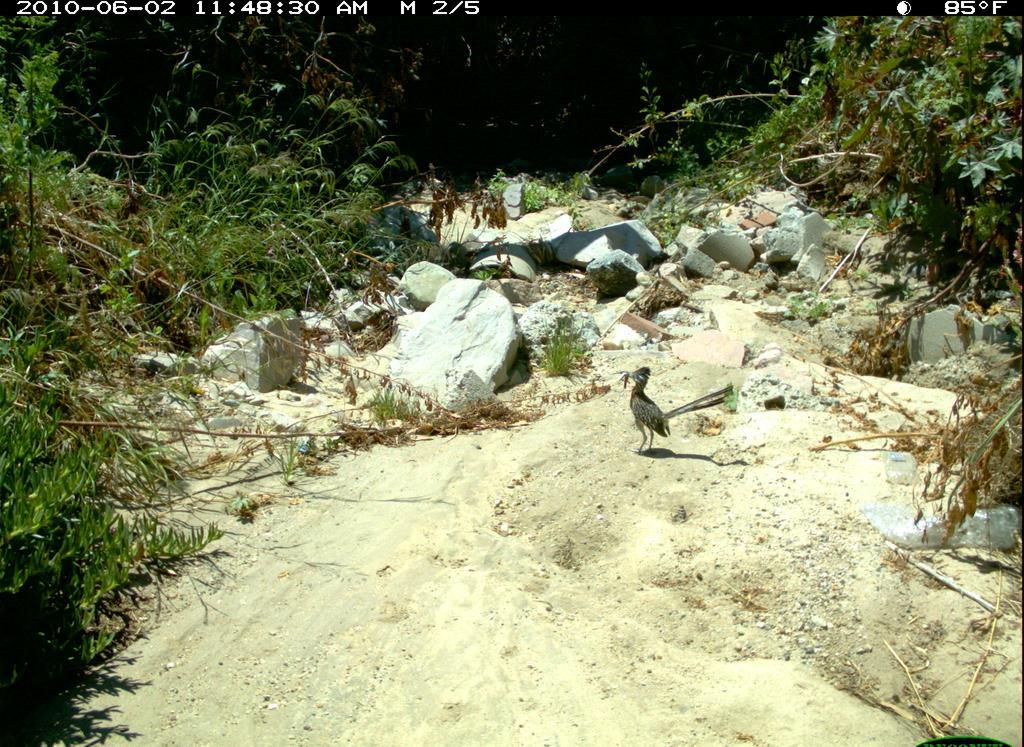bird: (621, 367, 673, 457)
